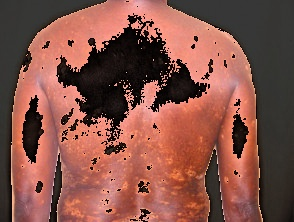vitiligo: (58, 116, 207, 222)
